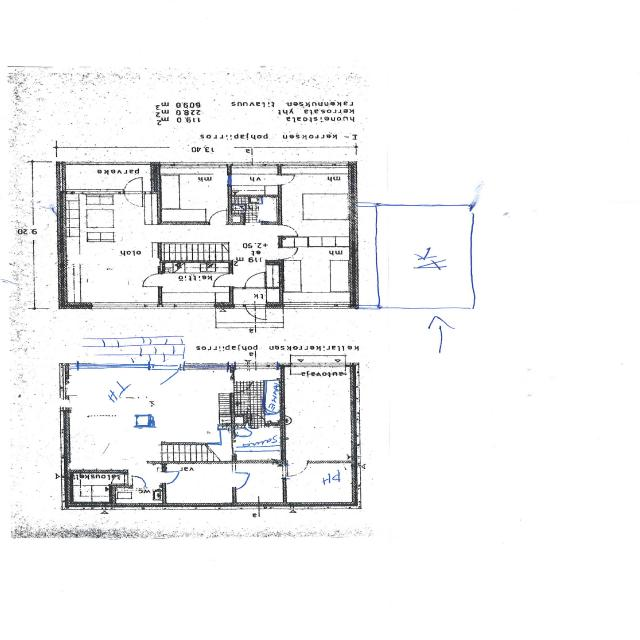door: (151, 363, 179, 389), (246, 302, 265, 322), (232, 473, 257, 488), (245, 273, 265, 289), (287, 461, 306, 477), (232, 380, 254, 393), (139, 274, 161, 287), (125, 191, 142, 206), (125, 179, 142, 194), (210, 210, 227, 225), (212, 274, 233, 286), (163, 472, 183, 484), (279, 248, 299, 259), (278, 225, 298, 236), (246, 212, 260, 225), (110, 474, 128, 484), (279, 175, 297, 185), (133, 476, 146, 488), (252, 414, 265, 426)
